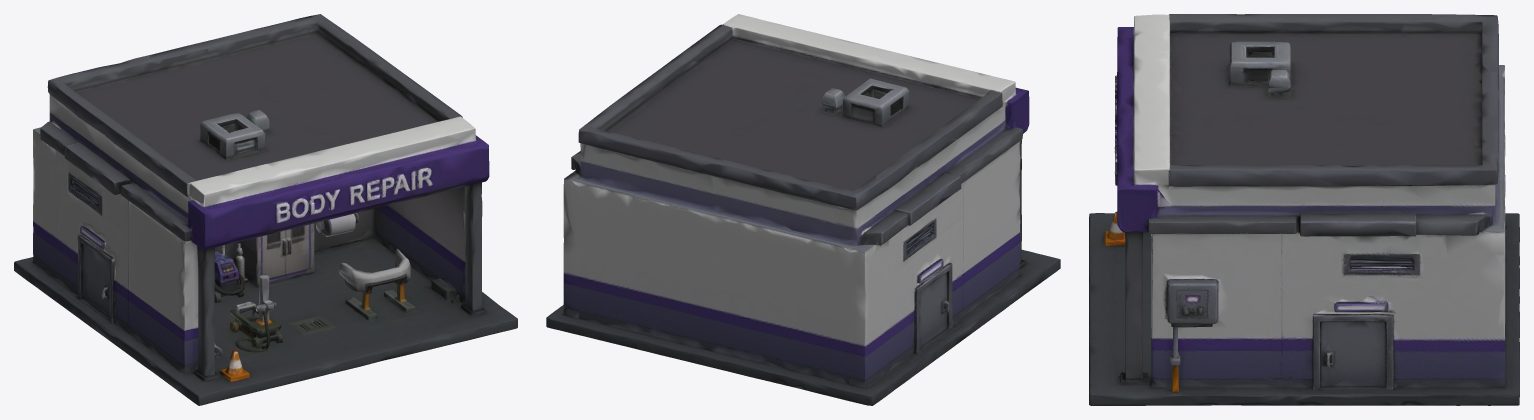
Rendered from body_repair_final_1k.glb.
The picture shows the model from 3 angles, left to right: view 1: azimuth 30°, elevation 25°; view 2: azimuth 150°, elevation 25°; view 3: azimuth 270°, elevation 25°; orthographic projection. The views are drawn at different scales.
Parts seen in each view (by area): view 1: tripo_node_cd756f5e-f6b6-4ae8-a6d3-76c5f0b69824; view 2: tripo_node_cd756f5e-f6b6-4ae8-a6d3-76c5f0b69824; view 3: tripo_node_cd756f5e-f6b6-4ae8-a6d3-76c5f0b69824.
Boxes of the visible parts, x1=… form: tripo_node_cd756f5e-f6b6-4ae8-a6d3-76c5f0b69824: x1=14, y1=14, x2=517, y2=405; tripo_node_cd756f5e-f6b6-4ae8-a6d3-76c5f0b69824: x1=546, y1=14, x2=1060, y2=405; tripo_node_cd756f5e-f6b6-4ae8-a6d3-76c5f0b69824: x1=1089, y1=14, x2=1519, y2=405.
Size of the model in its own units: 1 by 0.597 by 0.9948.
Materials: 1 (1 with a texture image).
